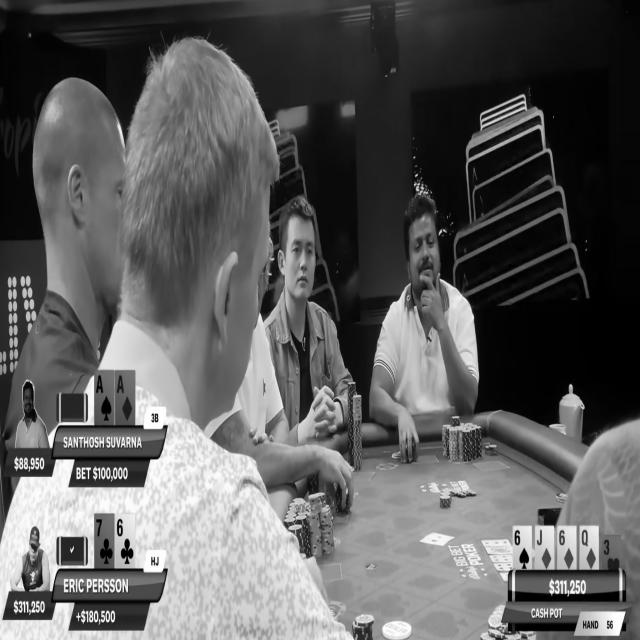3H: (604, 536, 620, 571)
6C: (116, 513, 135, 568)
6D: (559, 528, 576, 570)
6S: (513, 528, 531, 569)
7C: (95, 514, 114, 569)
AD: (116, 371, 134, 425)
AS: (95, 371, 113, 424)
JD: (537, 526, 553, 570)
QD: (581, 527, 599, 570)
